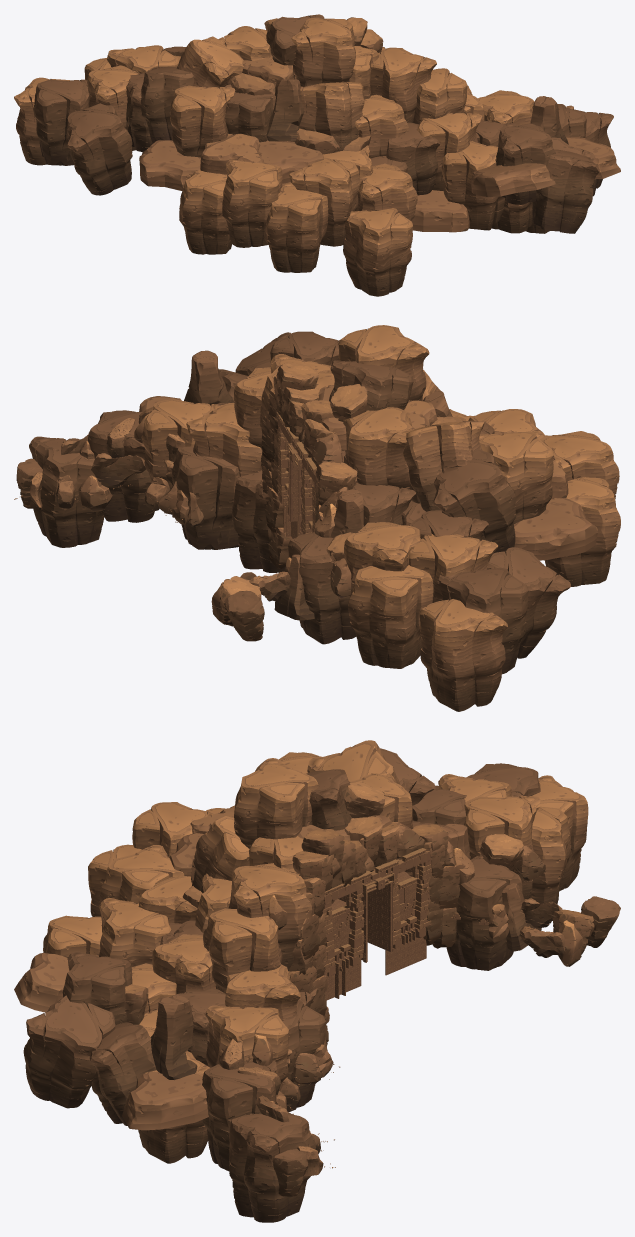
The picture shows the model from 3 angles, top to bottom: view 1: azimuth 30°, elevation 25°; view 2: azimuth 150°, elevation 25°; view 3: azimuth 270°, elevation 25°; orthographic projection. The views are drawn at different scales.
Parts seen in each view (by area): view 1: TFD_Canyon_Cliff_01A_LOD0_15, TFD_Canyon_Cliff_01B_LOD0_9, TFD_Canyon_Cliff_01A_LOD0_27, TFD_Canyon_Cliff_01A_LOD0_5, TFD_Canyon_Cliff_01B_LOD0_17, TFD_Canyon_Cliff_01A_LOD0_2, TFD_Canyon_Cliff_01A_LOD0_10, TFD_Canyon_Cliff_01A_LOD0_8, TFD_Canyon_Cliff_01B_LOD0_23, TFD_Canyon_Cliff_01A_LOD0_7, TFD_Canyon_Cliff_01A_LOD0_14, TFD_Canyon_Cliff_01A_LOD0_22 (+34 smaller); view 2: TFD_Canyon_Cliff_01A_LOD0_18, TFD_Canyon_Cliff_01A_LOD0_30, TFD_Canyon_Cliff_01B_LOD0_8, TFD_Canyon_Cliff_01B_LOD0_11, TFD_Canyon_Cliff_01B_LOD0_15, TFD_Canyon_Cliff_01A_LOD0_3, TFD_Canyon_Cliff_01B_LOD0_23, TFD_Canyon_Cliff_01A_LOD0_10, TFD_Canyon_Cliff_01A_LOD0_24, TFD_Canyon_Cliff_01A_LOD0_8, TFD_Canyon_Cliff_01B_LOD0_13, TFD_Rock_Slab_02A_LOD0_3 (+42 smaller); view 3: TFD_Canyon_Cliff_01B_LOD0_17, TFD_Canyon_Cliff_01B_LOD0_11, TFD_Canyon_Cliff_01A_LOD0_2, TFD_Canyon_Cliff_01B_LOD0_13, TFD_Canyon_Cliff_01A_LOD0_21, TFD_Canyon_Cliff_01A_LOD0, TFD_Canyon_Cliff_01B_LOD0_22, TFD_Canyon_Cliff_01B_LOD0_1, TFD_Rock_Slab_02A_LOD0, TFD_Canyon_Cliff_01A_LOD0_4, TFD_Canyon_Cliff_01A_LOD0_31, TFD_Canyon_Cliff_01B_LOD0_7 (+48 smaller).
Boxes of the visible parts, x1=… form: TFD_Canyon_Cliff_01A_LOD0_15: x1=343, y1=208, x2=413, y2=296; TFD_Canyon_Cliff_01B_LOD0_9: x1=67, y1=103, x2=132, y2=195; TFD_Canyon_Cliff_01A_LOD0_27: x1=264, y1=182, x2=328, y2=272; TFD_Canyon_Cliff_01A_LOD0_5: x1=222, y1=160, x2=282, y2=247; TFD_Canyon_Cliff_01B_LOD0_17: x1=532, y1=149, x2=599, y2=233; TFD_Canyon_Cliff_01A_LOD0_2: x1=291, y1=18, x2=355, y2=87; TFD_Canyon_Cliff_01A_LOD0_10: x1=170, y1=85, x2=235, y2=157; TFD_Canyon_Cliff_01A_LOD0_8: x1=179, y1=170, x2=231, y2=254; TFD_Canyon_Cliff_01B_LOD0_23: x1=33, y1=79, x2=89, y2=165; TFD_Canyon_Cliff_01A_LOD0_7: x1=289, y1=157, x2=360, y2=246; TFD_Canyon_Cliff_01A_LOD0_14: x1=299, y1=82, x2=364, y2=151; TFD_Canyon_Cliff_01A_LOD0_22: x1=441, y1=141, x2=504, y2=230; TFD_Canyon_Cliff_01A_LOD0_18: x1=419, y1=599, x2=507, y2=711; TFD_Canyon_Cliff_01A_LOD0_30: x1=348, y1=565, x2=433, y2=668; TFD_Canyon_Cliff_01B_LOD0_8: x1=433, y1=449, x2=516, y2=553; TFD_Canyon_Cliff_01B_LOD0_11: x1=29, y1=436, x2=104, y2=547; TFD_Canyon_Cliff_01B_LOD0_15: x1=171, y1=446, x2=239, y2=549; TFD_Canyon_Cliff_01A_LOD0_3: x1=343, y1=407, x2=414, y2=489; TFD_Canyon_Cliff_01B_LOD0_23: x1=437, y1=568, x2=528, y2=673; TFD_Canyon_Cliff_01A_LOD0_10: x1=479, y1=431, x2=553, y2=523; TFD_Canyon_Cliff_01A_LOD0_24: x1=403, y1=421, x2=484, y2=511; TFD_Canyon_Cliff_01A_LOD0_8: x1=544, y1=477, x2=620, y2=586; TFD_Canyon_Cliff_01B_LOD0_13: x1=288, y1=532, x2=356, y2=644; TFD_Rock_Slab_02A_LOD0_3: x1=514, y1=498, x2=597, y2=560; TFD_Canyon_Cliff_01B_LOD0_17: x1=23, y1=995, x2=115, y2=1108; TFD_Canyon_Cliff_01B_LOD0_11: x1=229, y1=1111, x2=315, y2=1222; TFD_Canyon_Cliff_01A_LOD0_2: x1=234, y1=758, x2=318, y2=848; TFD_Canyon_Cliff_01B_LOD0_13: x1=446, y1=855, x2=522, y2=970; TFD_Canyon_Cliff_01A_LOD0_21: x1=203, y1=908, x2=282, y2=992; TFD_Canyon_Cliff_01A_LOD0: x1=228, y1=863, x2=311, y2=971; TFD_Canyon_Cliff_01B_LOD0_22: x1=202, y1=1061, x2=276, y2=1171; TFD_Canyon_Cliff_01B_LOD0_1: x1=89, y1=1022, x2=156, y2=1125; TFD_Rock_Slab_02A_LOD0: x1=122, y1=1071, x2=208, y2=1130; TFD_Canyon_Cliff_01A_LOD0_4: x1=204, y1=1005, x2=289, y2=1084; TFD_Canyon_Cliff_01A_LOD0_31: x1=99, y1=898, x2=171, y2=966; TFD_Canyon_Cliff_01B_LOD0_7: x1=62, y1=951, x2=132, y2=1025.
Size of the model in its own units: 299 by 129 by 253.
1 material, 1 textured.
